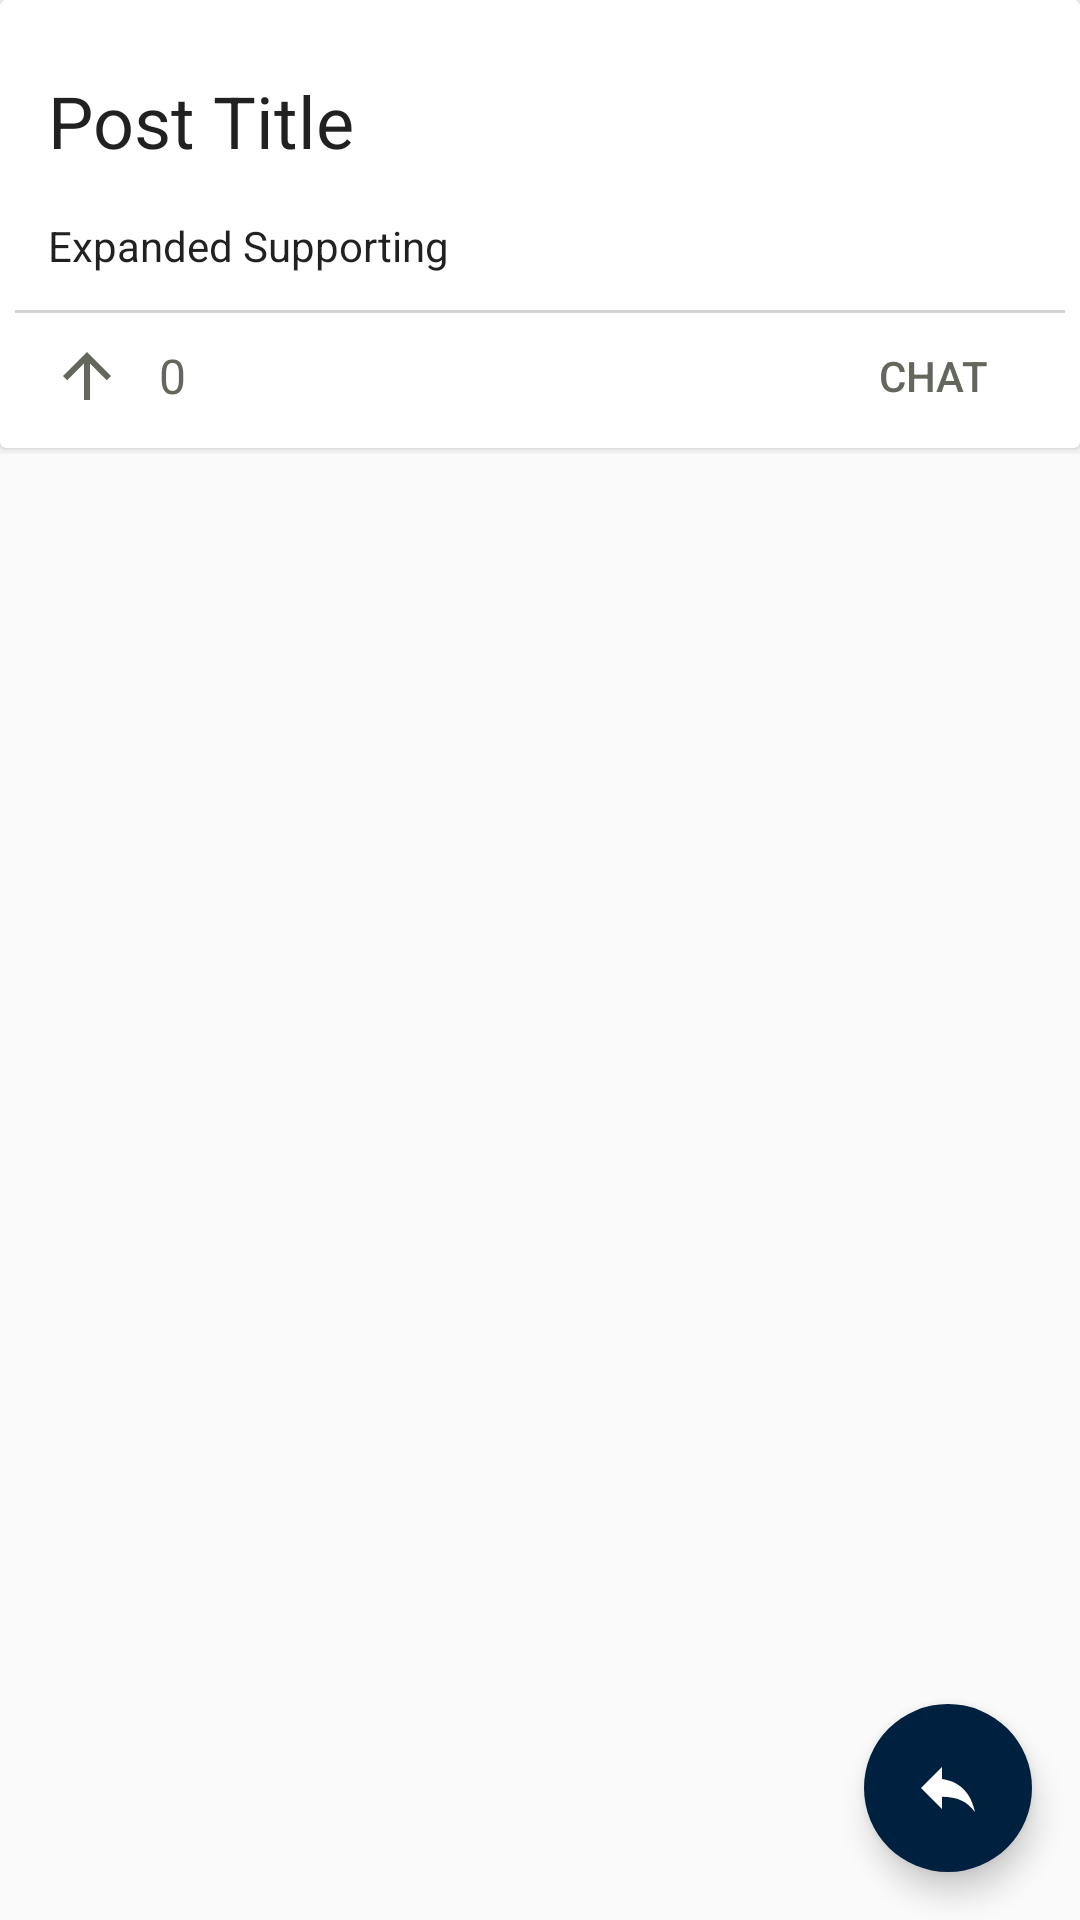

Icons on this 1080px x 1920px Android screen, each with its box as (x1, y1, x2, y2):
reply: (864, 1704, 1032, 1872)
upvote states: (63, 352, 111, 400)
